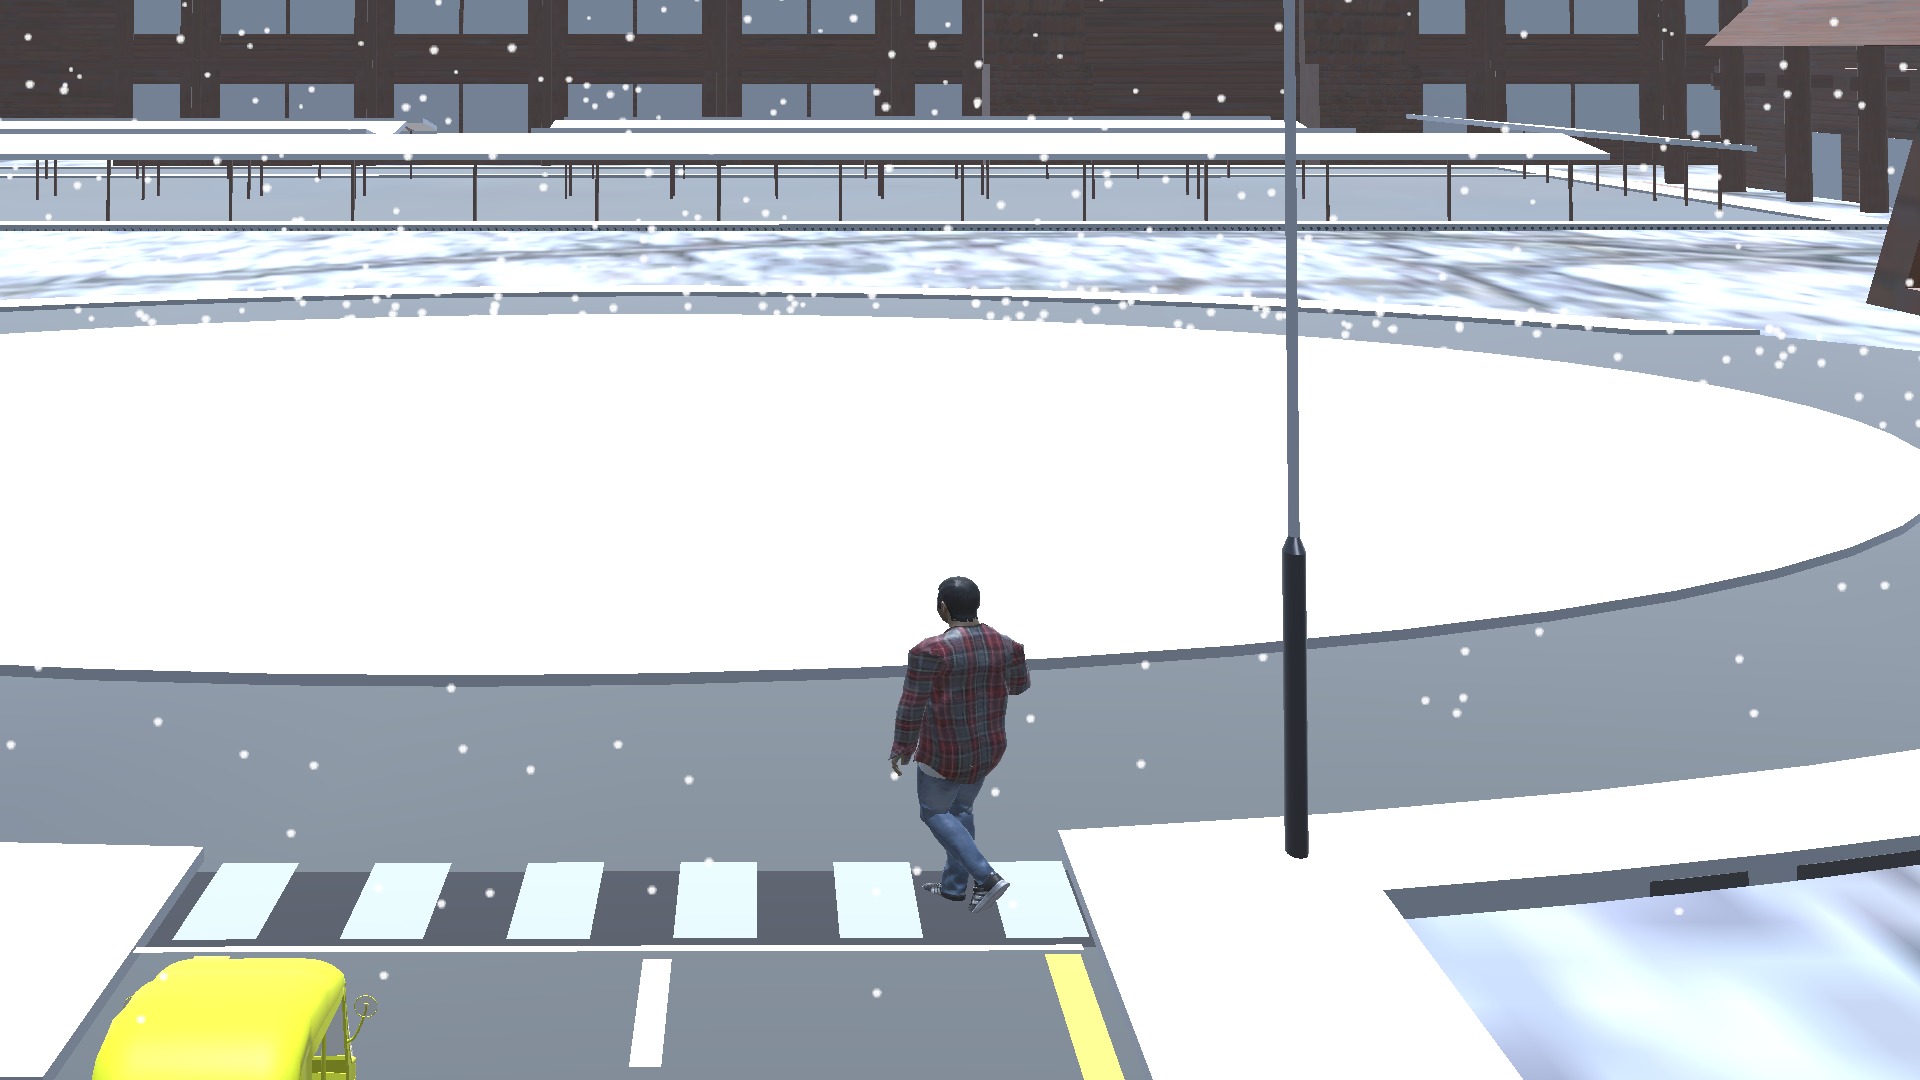pedestrian: (879, 572, 1035, 921)
